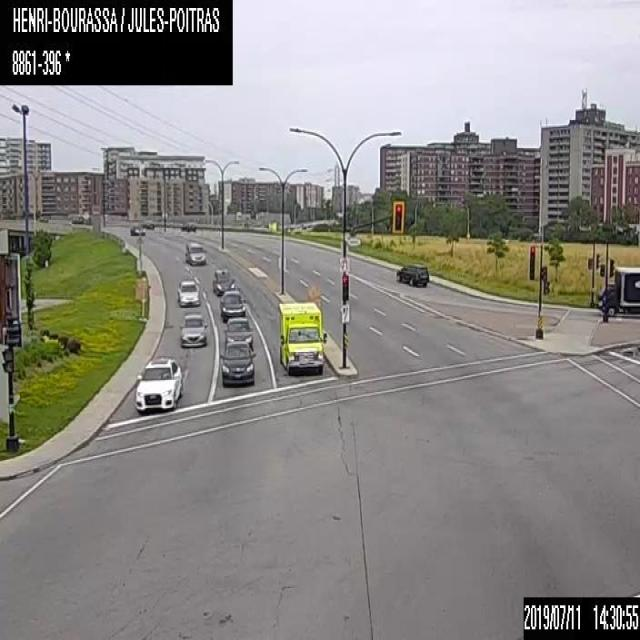vehicle: (276, 297, 328, 373), (132, 355, 184, 412), (595, 263, 639, 313), (219, 339, 255, 387), (178, 311, 207, 348), (223, 317, 253, 351), (394, 262, 429, 286), (218, 289, 246, 319), (175, 276, 199, 305), (212, 267, 235, 295), (184, 240, 206, 265), (130, 220, 145, 236), (180, 220, 196, 232)
